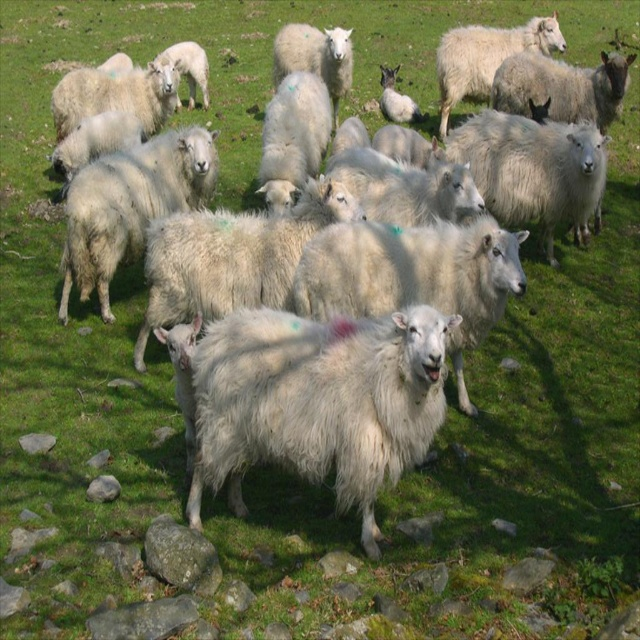Sheep: (50, 10, 637, 562)
